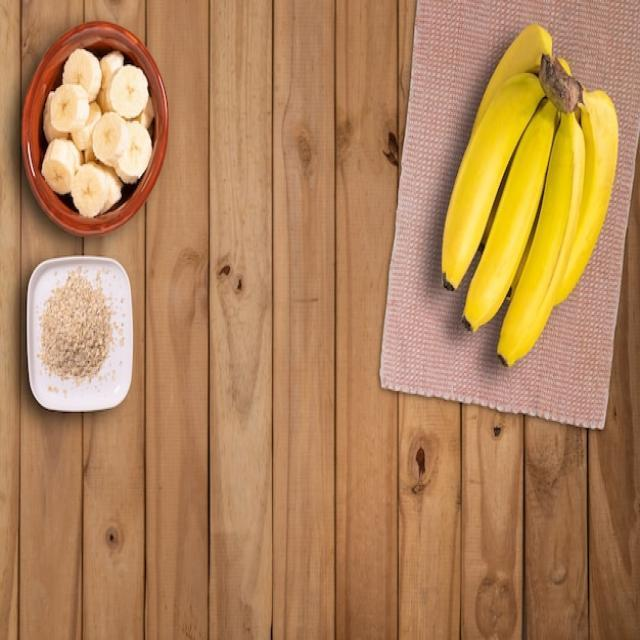Banana: (434, 18, 622, 376)
